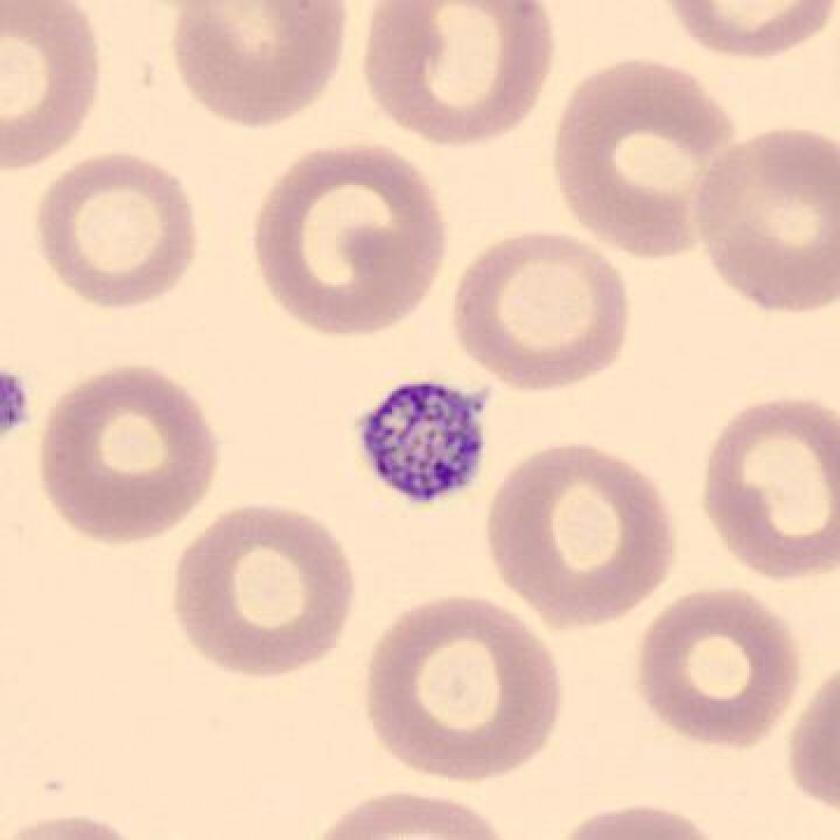platelets: (360, 378, 496, 506)
